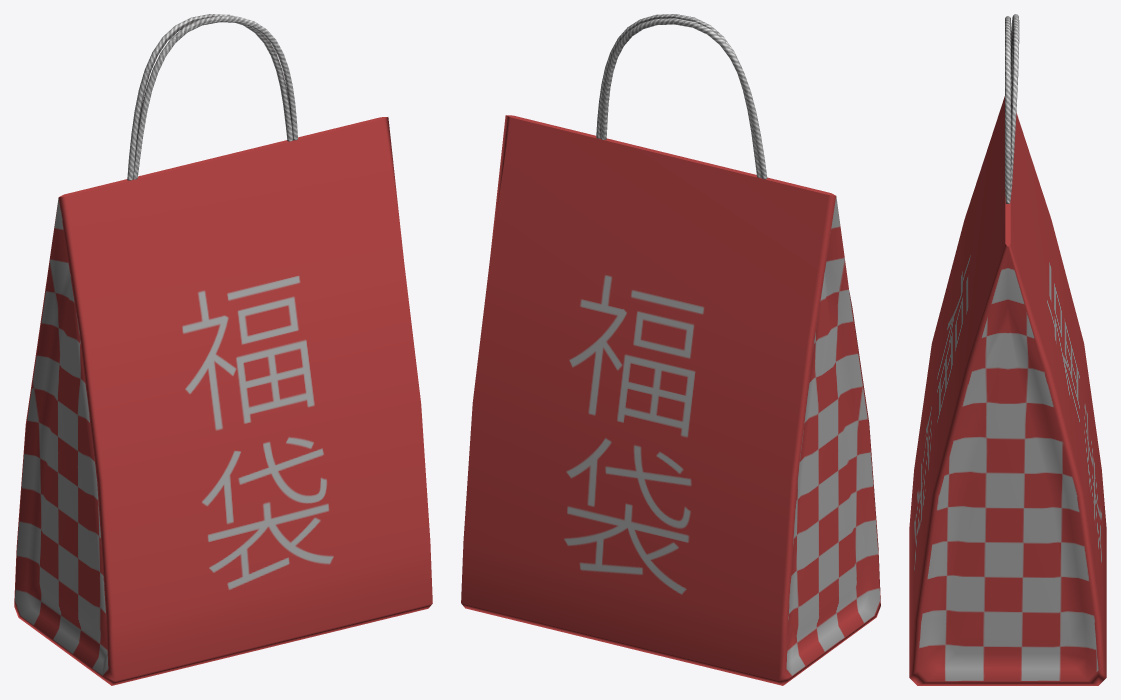
File: LuckyBag_01.FBX
3 views of the same model, side by side, from view 1: azimuth 30°, elevation 25°; view 2: azimuth 150°, elevation 25°; view 3: azimuth 270°, elevation 25° (orthographic). The views are drawn at different scales.
Visible parts, largest first — view 1: LuckyBag_01; view 2: LuckyBag_01; view 3: LuckyBag_01.
Boxes of the visible parts, box(x1,y1,x2,y2) form: LuckyBag_01: box(14, 14, 432, 685); LuckyBag_01: box(461, 14, 880, 685); LuckyBag_01: box(909, 14, 1106, 685).
Bounding box in the file's own units: 14.86 × 25.81 × 7.95.
